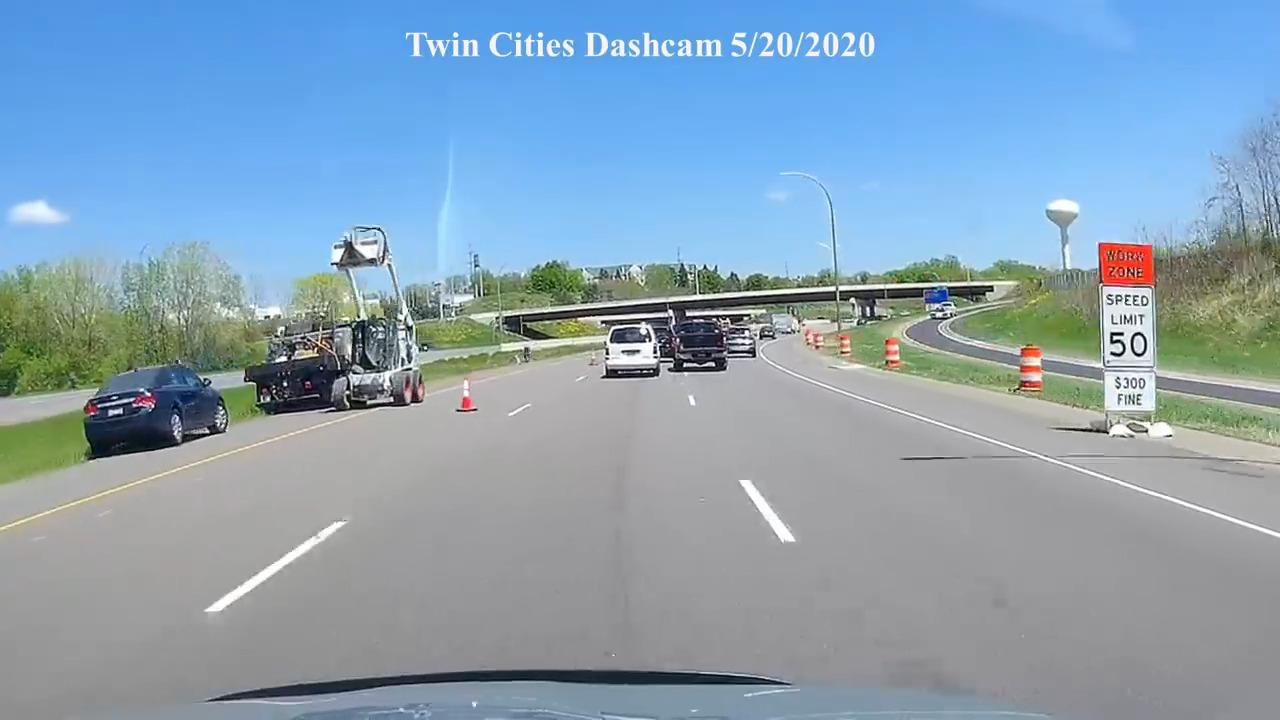car: (82, 363, 229, 459), (601, 322, 661, 379), (924, 289, 957, 320)
traffic cone: (1011, 346, 1044, 396), (454, 379, 479, 412), (884, 337, 901, 369), (837, 332, 852, 357)
